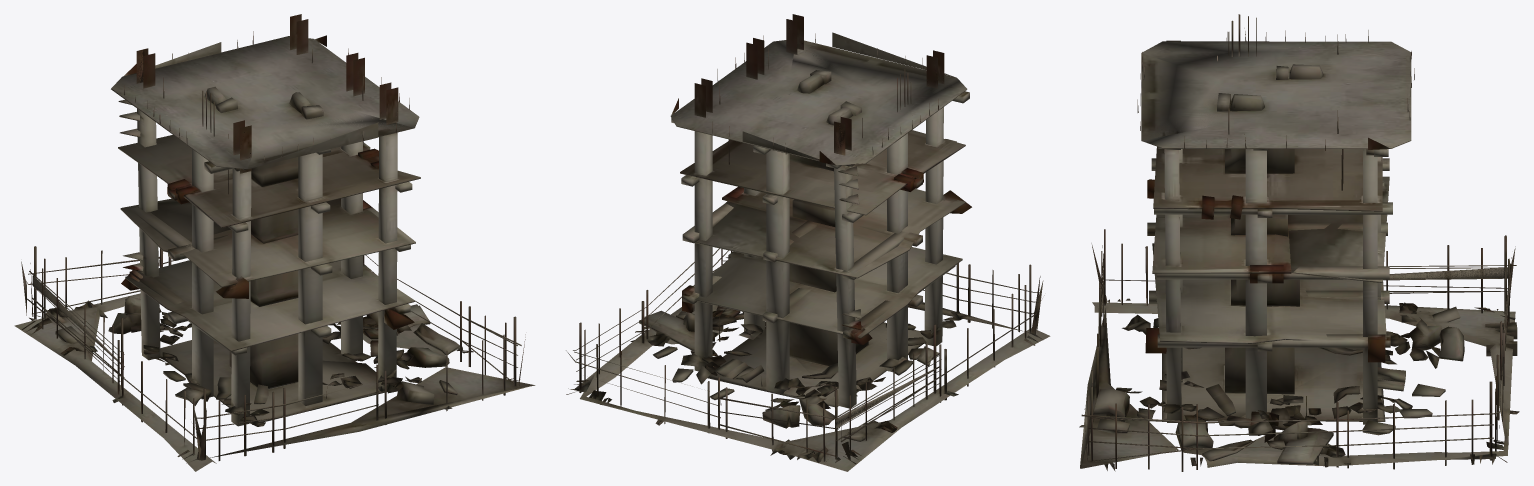
File: abandoned_construction_site.glb
The picture shows the model from 3 angles, left to right: view 1: azimuth 30°, elevation 25°; view 2: azimuth 150°, elevation 25°; view 3: azimuth 270°, elevation 25°; orthographic projection. The views are drawn at different scales.
Parts seen in each view (by area): view 1: tripo_node_d1665ab2-d2e5-4c3e-acf9-1ba313a4fcea; view 2: tripo_node_d1665ab2-d2e5-4c3e-acf9-1ba313a4fcea; view 3: tripo_node_d1665ab2-d2e5-4c3e-acf9-1ba313a4fcea.
Part boxes in pixels (x1=…): tripo_node_d1665ab2-d2e5-4c3e-acf9-1ba313a4fcea: x1=14, y1=14, x2=535, y2=471; tripo_node_d1665ab2-d2e5-4c3e-acf9-1ba313a4fcea: x1=566, y1=14, x2=1050, y2=471; tripo_node_d1665ab2-d2e5-4c3e-acf9-1ba313a4fcea: x1=1079, y1=14, x2=1519, y2=471.
Bounding box in the file's own units: 0.9473 × 0.8457 × 0.998.
1 material, 1 textured.
